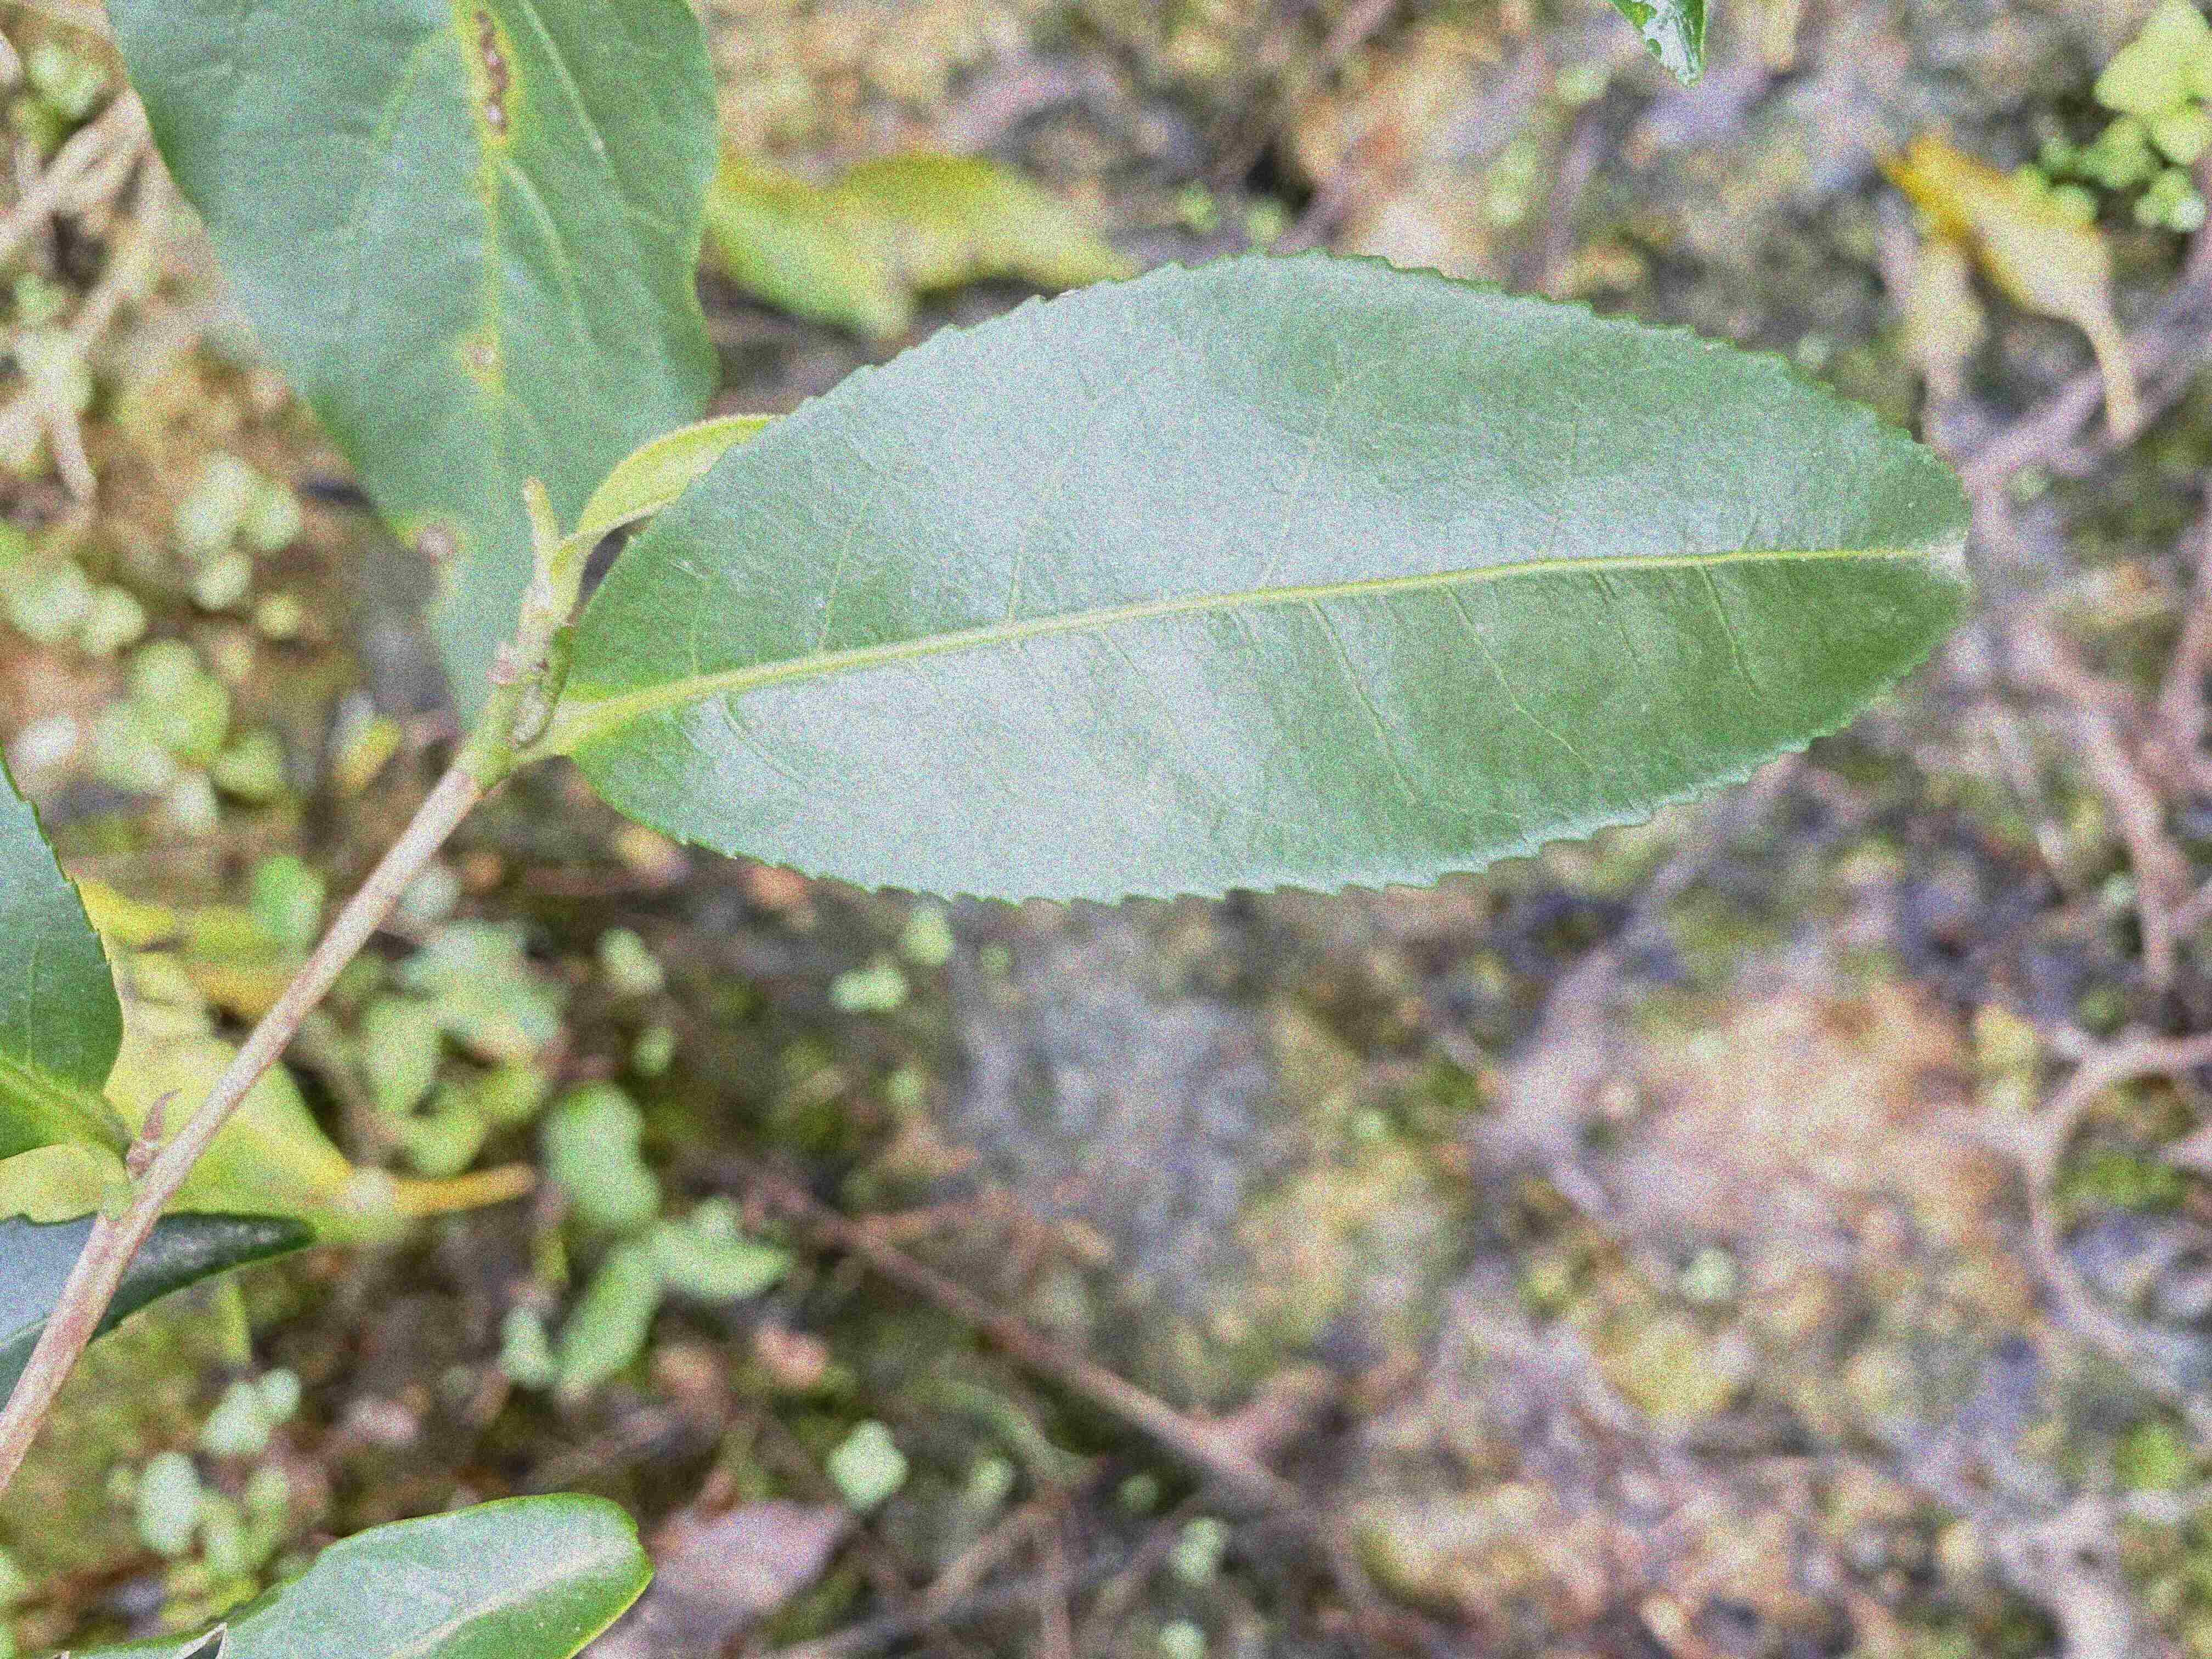healthy: (566, 240, 1973, 910)
tanju_high: (99, 2, 726, 735)
